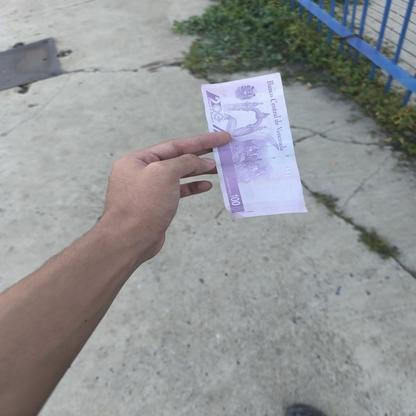one_hundred-back-vef: (200, 71, 309, 220)
